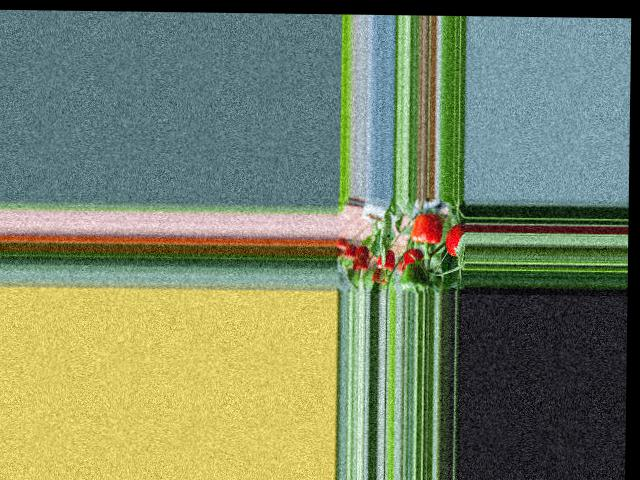bell_pepper: (375, 244, 395, 275)
